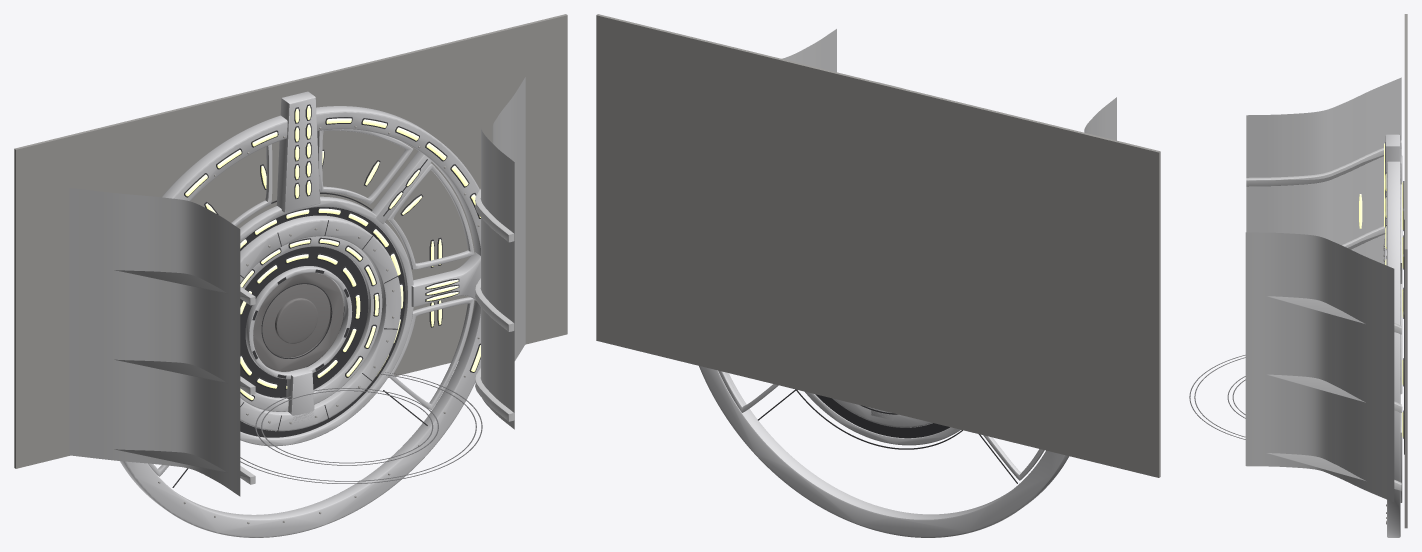
Rendered from conduit-chamber.glb.
The picture shows the model from 3 angles, left to right: view 1: azimuth 30°, elevation 25°; view 2: azimuth 150°, elevation 25°; view 3: azimuth 270°, elevation 25°; orthographic projection. The views are drawn at different scales.
Visible parts, largest first — view 1: steel, hull, shell, trim, iris, segments, floorTrim; view 2: steel, shell, trim, hull; view 3: hull, shell, steel, segments, trim, floorTrim.
Boxes of the visible parts, x1,y1,x2,y2 form: steel: (14,14,567,468); hull: (69,77,525,496); shell: (120,91,480,537); trim: (172,104,480,487); iris: (253,273,343,371); segments: (185,105,480,399); floorTrim: (240,372,482,483); steel: (596,14,1160,477); shell: (699,82,1068,537); trim: (758,389,1017,483); hull: (782,29,1116,140); hull: (1245,77,1401,502); shell: (1384,134,1402,537); steel: (1404,14,1407,528); segments: (1359,143,1403,437); trim: (1384,142,1404,454); floorTrim: (1189,355,1245,439).
Size of the model in its own units: 19 by 14.58 by 7.44.
